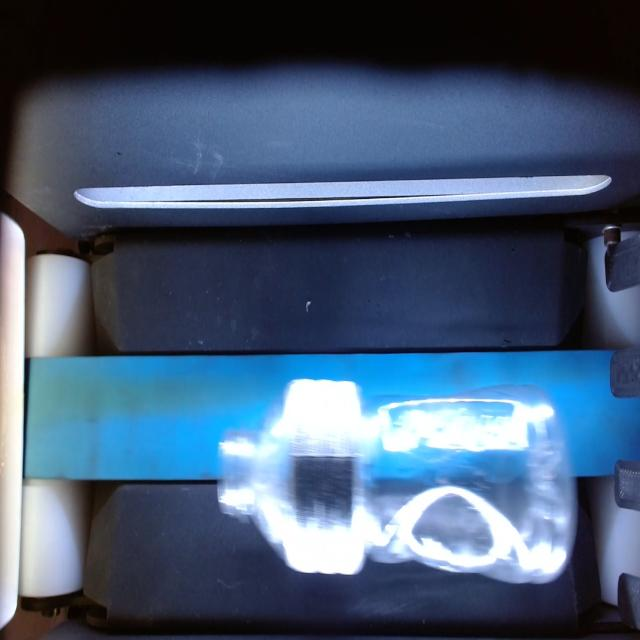bottom: (367, 376, 583, 592)
label: (284, 373, 364, 580)
neck: (215, 393, 289, 550)
